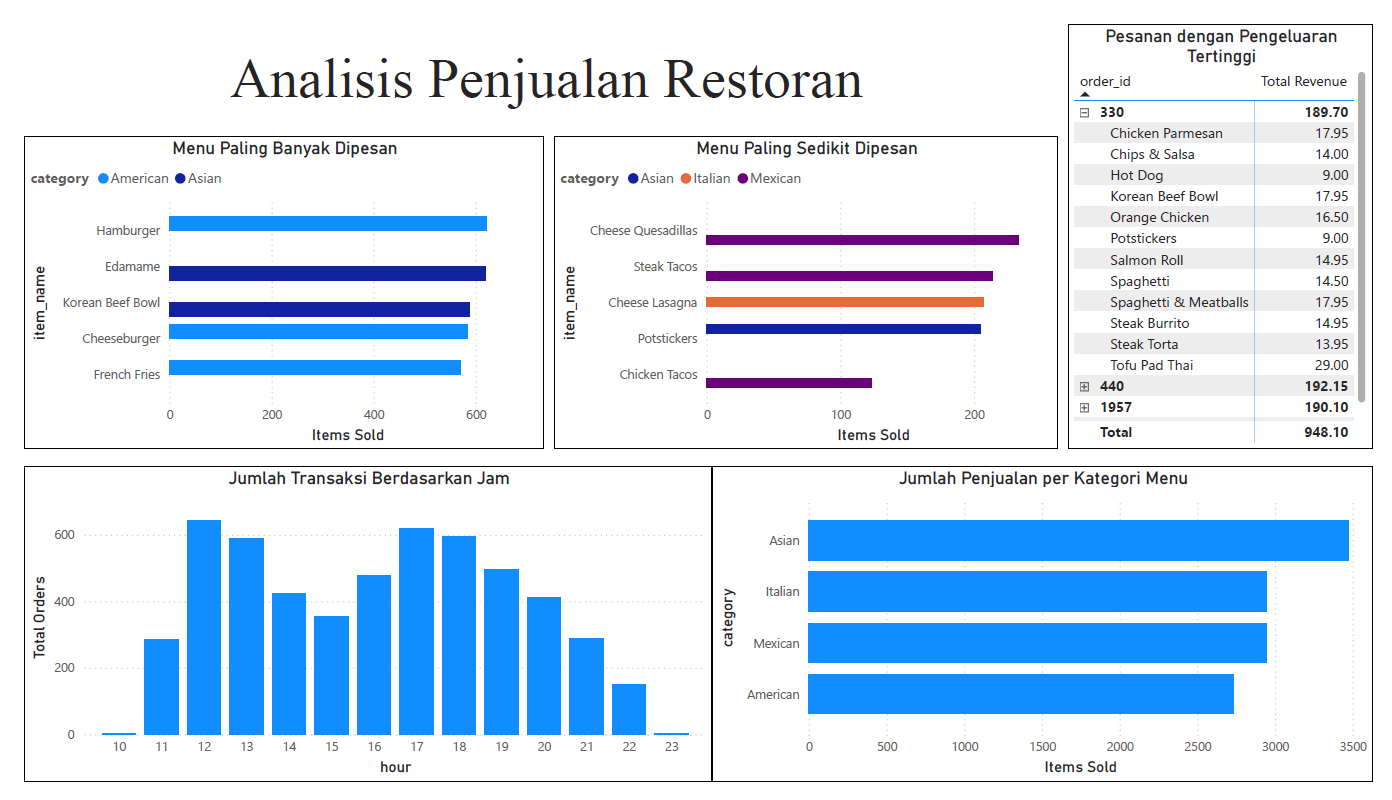

The dashboard page shown, as its layout file describes it:
{"tool":"powerbi","page":{"name":"Page 1","canvas":[1280,720],"ordinal":0},"visuals":[{"type":"clusteredBarChart","title":"Menu Paling Banyak Dipesan","fields":{"Category":["restaurant_clean (1).item_name"],"Y":["restaurant_clean (1).Items Sold"],"Series":["restaurant_clean (1).category"]},"box":[0,107.1,492.9,297.1],"z":0},{"type":"pivotTable","title":"Pesanan dengan Pengeluaran Tertinggi","fields":{"Rows":["restaurant_clean (1).order_id","restaurant_clean (1).item_name"],"Values":["restaurant_clean (1).Total Revenue"]},"box":[991.4,1.4,288.6,402.9],"z":1000},{"type":"clusteredColumnChart","title":"Jumlah Transaksi Berdasarkan Jam","fields":{"Category":["restaurant_clean (1).hour"],"Y":["restaurant_clean (1).Total Orders"]},"box":[0,420,652.9,300],"z":2000},{"type":"clusteredBarChart","title":"Menu Paling Sedikit Dipesan","fields":{"Category":["restaurant_clean (1).item_name"],"Y":["restaurant_clean (1).Items Sold"],"Series":["restaurant_clean (1).category"]},"box":[502.9,107.1,478.6,297.1],"z":3000},{"type":"clusteredBarChart","title":"Jumlah Penjualan per Kategori Menu","fields":{"Category":["restaurant_clean (1).category"],"Y":["restaurant_clean (1).Items Sold"]},"box":[653,420,627,300],"z":4000},{"type":"textbox","box":[10,15.7,971.4,75.7],"z":5000}]}

Visuals, with their boxes in screenshot pixels (x1, y1, x2, y2), scaled from the page's 1280x720 canvas onto the 1392x800 screenshot:
"Menu Paling Banyak Dipesan" clusteredBarChart: (0,119,536,449)
"Pesanan dengan Pengeluaran Tertinggi" pivotTable: (1078,2,1391,449)
"Jumlah Transaksi Berdasarkan Jam" clusteredColumnChart: (0,467,710,799)
"Menu Paling Sedikit Dipesan" clusteredBarChart: (547,119,1067,449)
"Jumlah Penjualan per Kategori Menu" clusteredBarChart: (710,467,1391,799)
textbox: (11,17,1067,102)
